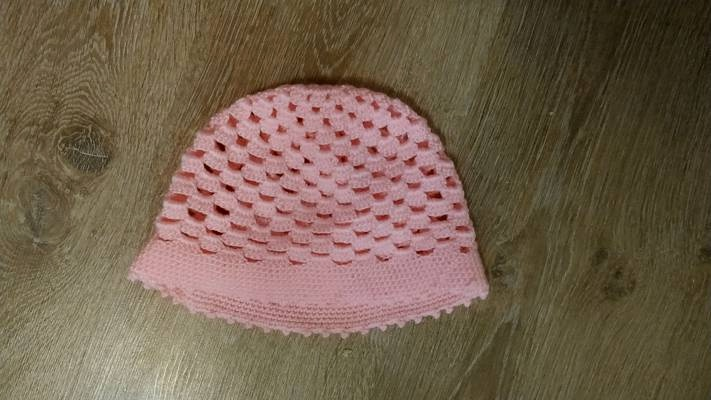Hat: (119, 38, 511, 349)
